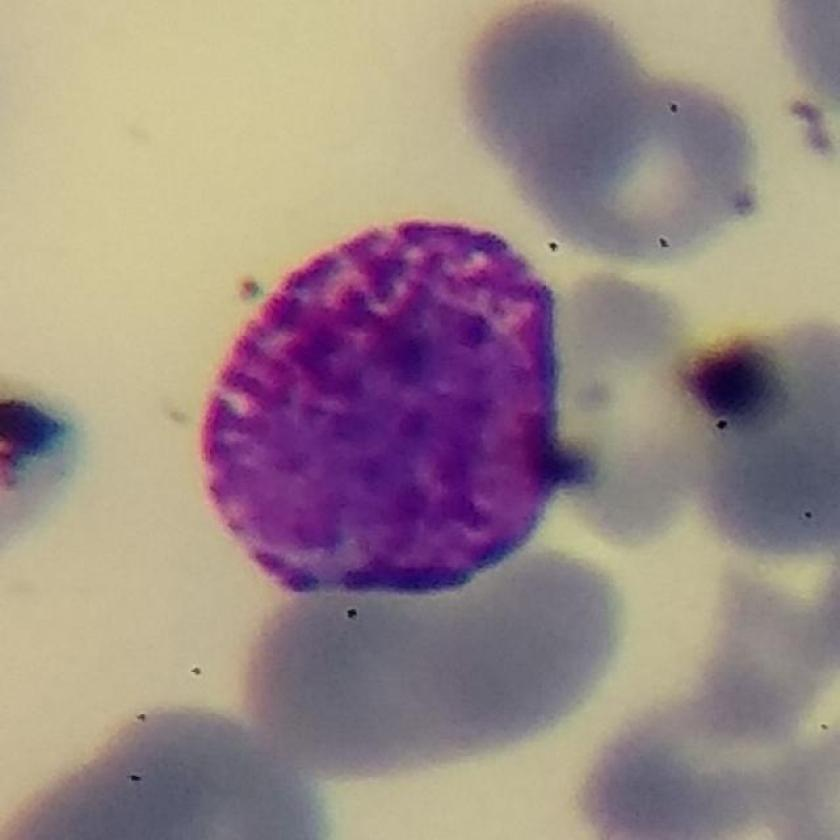basophil: (195, 214, 588, 617)
